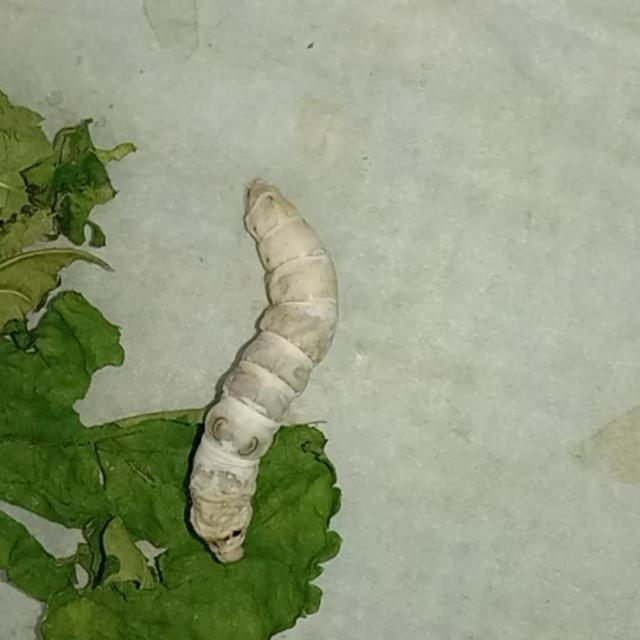Grasserie: (145, 156, 347, 591)
